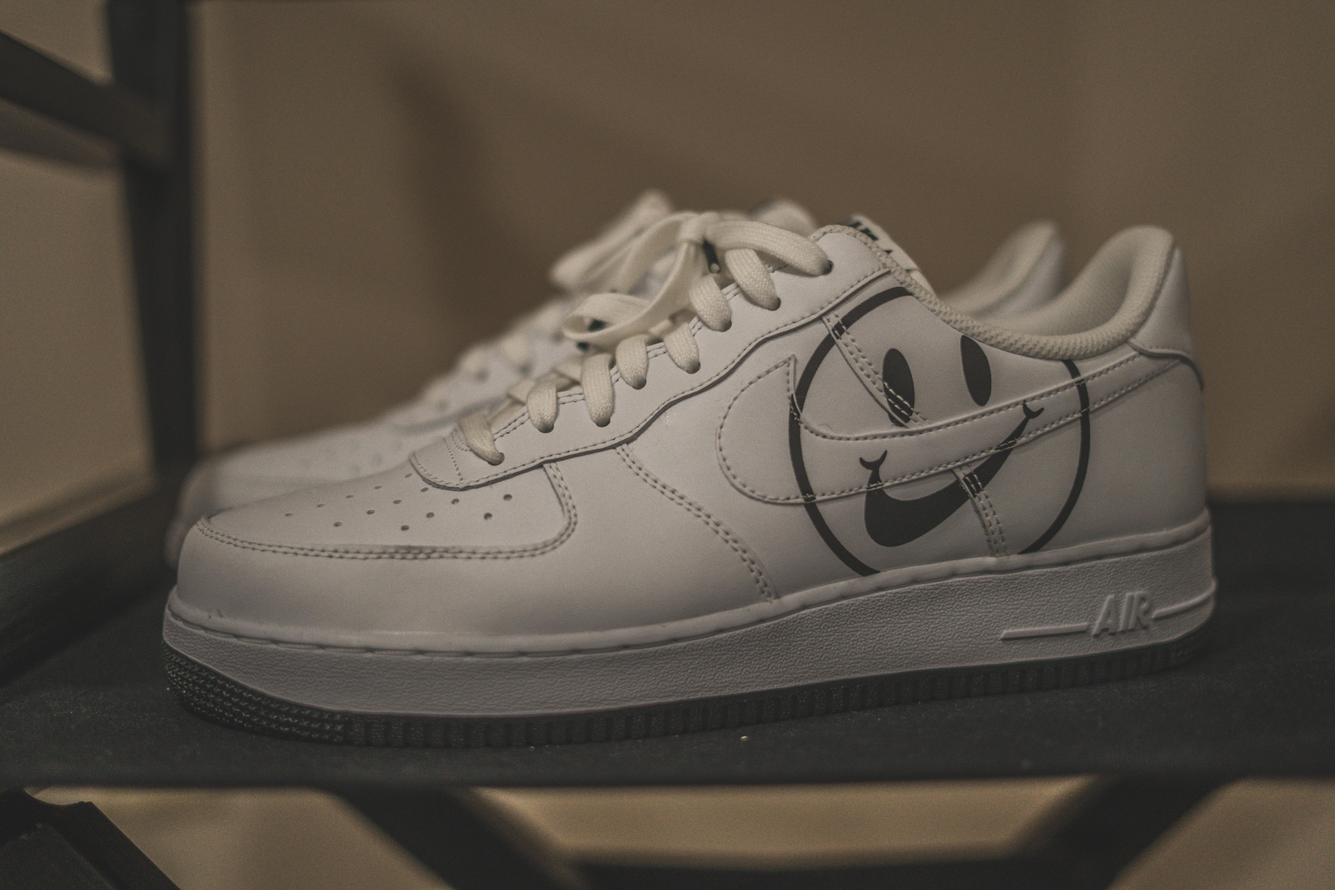sneaker: (141, 167, 1260, 736)
